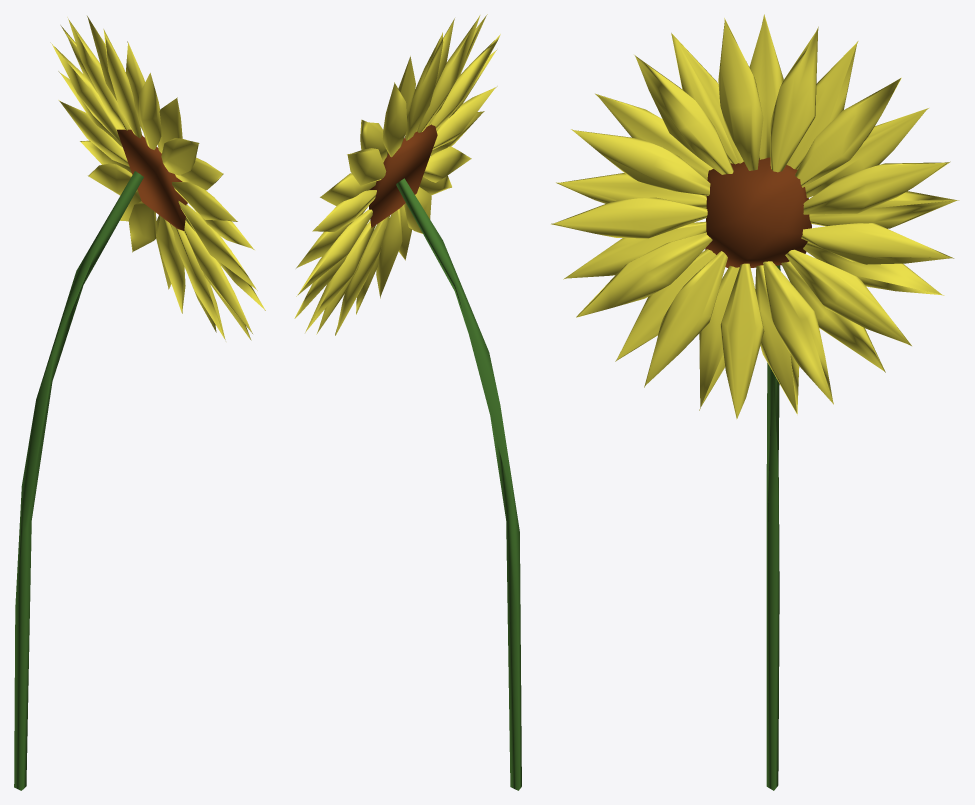
The model's file is Flower.fbx.
3 renders of one model, left to right at view 1: azimuth 30°, elevation 25°; view 2: azimuth 150°, elevation 25°; view 3: azimuth 270°, elevation 25°, orthographic. The views are drawn at different scales.
Visible parts, largest first — view 1: Flower; view 2: Flower; view 3: Flower.
Boxes of the visible parts, x1,y1,x2,y2 form: Flower: [14, 16, 265, 790]; Flower: [294, 14, 521, 790]; Flower: [551, 14, 959, 790].
Size of the model in its own units: 131 by 509 by 232.
